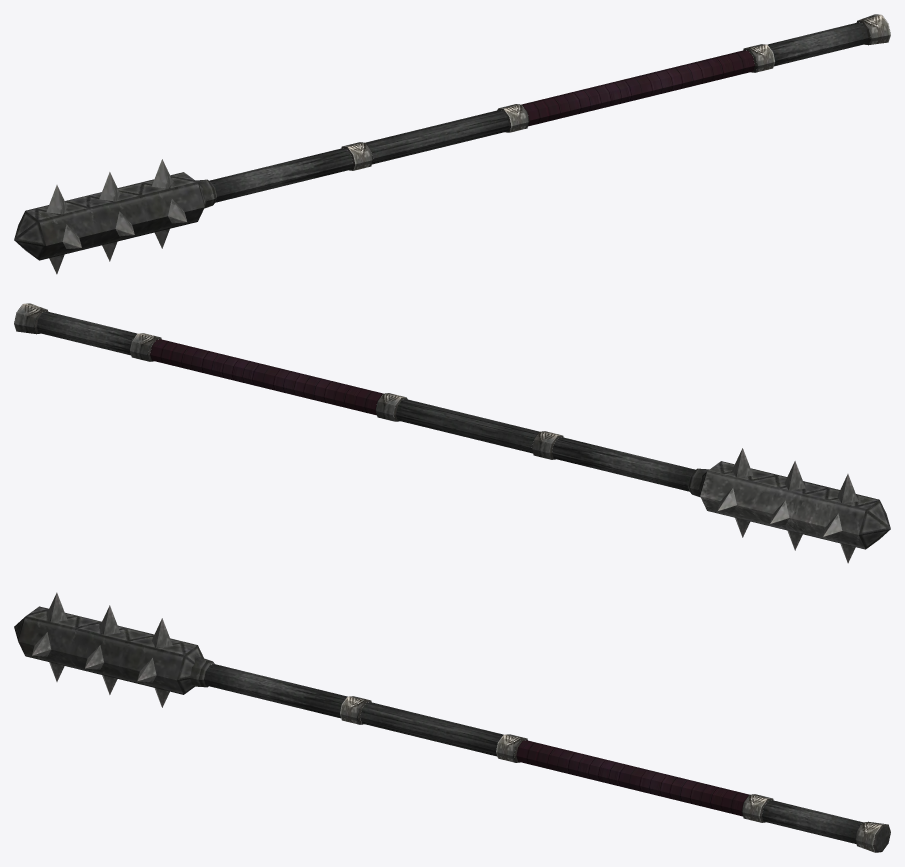
File: KM_2H_BLUNT_DEX_03.glb
3 views of the same model, one above another, from view 1: azimuth 30°, elevation 25°; view 2: azimuth 150°, elevation 25°; view 3: azimuth 330°, elevation 25° (orthographic).
Visible parts, largest first — view 1: KM_2H_BLUNT_DEX_03; view 2: KM_2H_BLUNT_DEX_03; view 3: KM_2H_BLUNT_DEX_03.
Boxes of the visible parts, left/top/right/bottom form: KM_2H_BLUNT_DEX_03: left=14, top=14, right=890, bottom=274; KM_2H_BLUNT_DEX_03: left=14, top=303, right=890, bottom=563; KM_2H_BLUNT_DEX_03: left=14, top=592, right=890, bottom=852.
Size of the model in its own units: 1.8 by 0.1792 by 0.1796.
3 materials, 3 textured.
